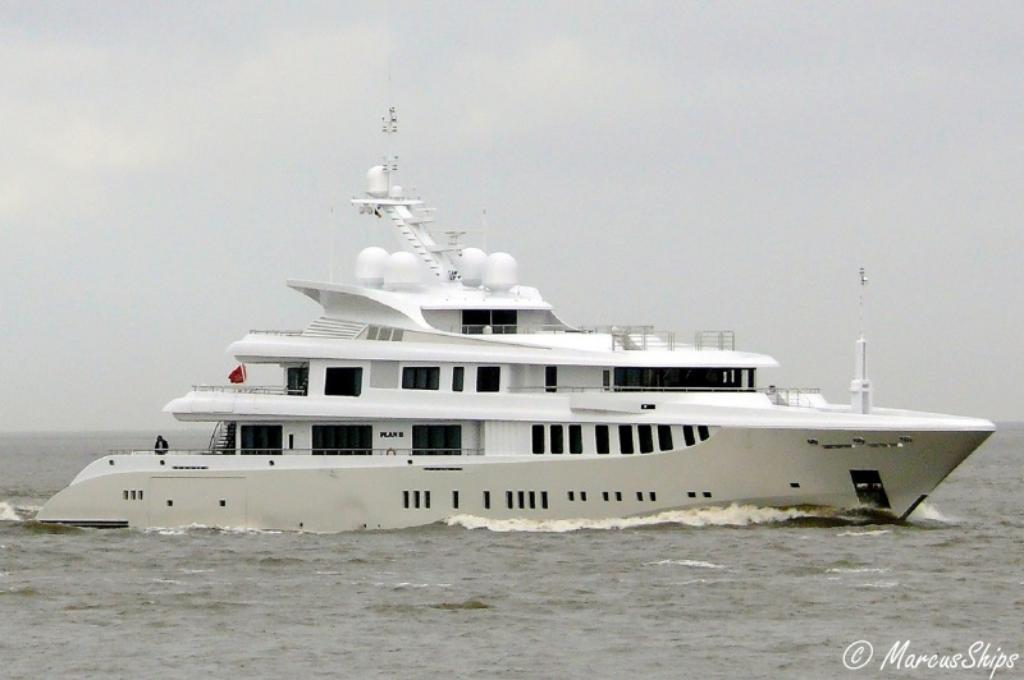PassengerShip: (32, 160, 998, 534)
